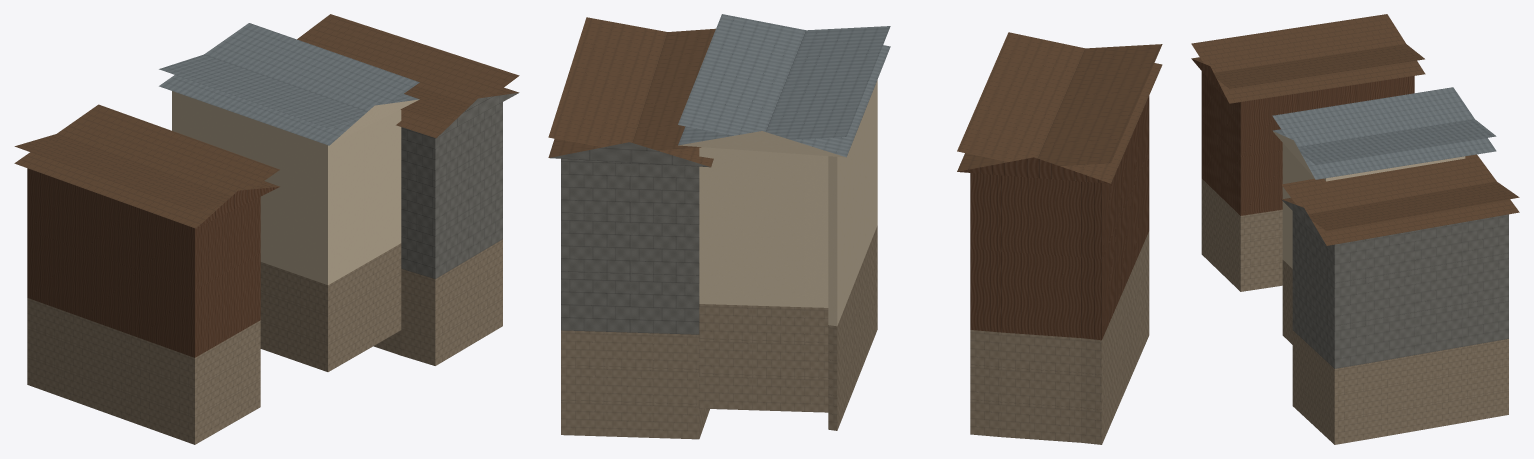
The model's file is bld_c-3_1_543.gltf.
3 renders of one model, left to right at view 1: azimuth 30°, elevation 25°; view 2: azimuth 150°, elevation 25°; view 3: azimuth 270°, elevation 25°, orthographic. The views are drawn at different scales.
Parts seen in each view (by area): view 1: bld_c-3_1_543; view 2: bld_c-3_1_543; view 3: bld_c-3_1_543.
Part boxes in pixels (left/top/right/bottom): bld_c-3_1_543: left=14, top=14, right=519, bottom=444; bld_c-3_1_543: left=548, top=14, right=1162, bottom=444; bld_c-3_1_543: left=1191, top=14, right=1519, bottom=444.
Bounding box in the file's own units: 28.88 × 16.1 × 19.99.
Materials: 9 (9 with a texture image).
